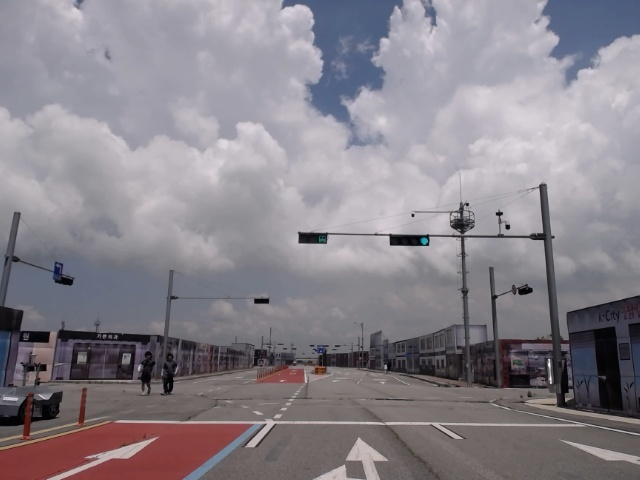straight_green_4: (389, 235, 431, 247)
